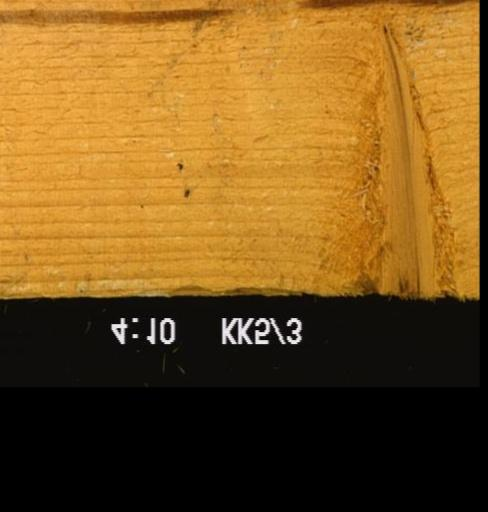wave: (166, 284, 320, 296)
